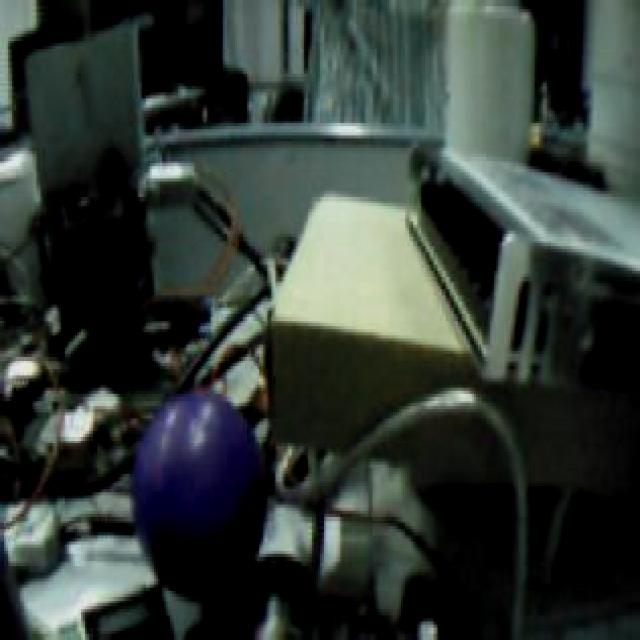BallPurple: (133, 393, 265, 602)
